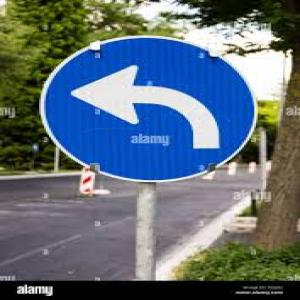go left: (39, 32, 263, 188)
